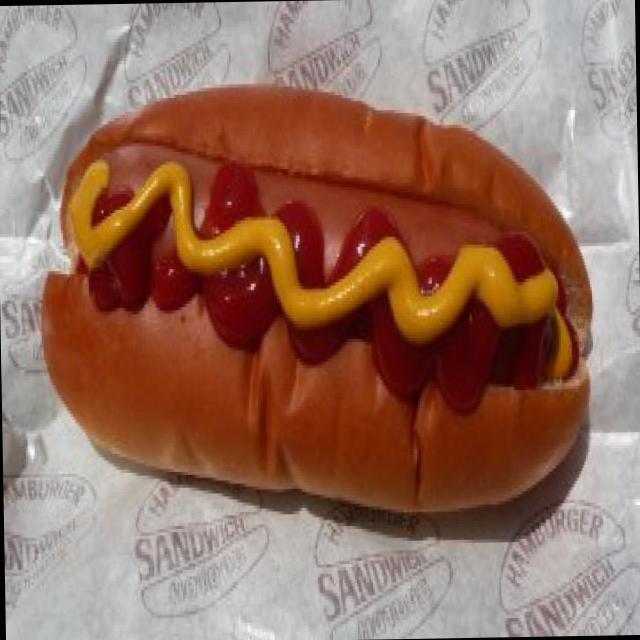Hot Dog: (30, 51, 604, 538)
